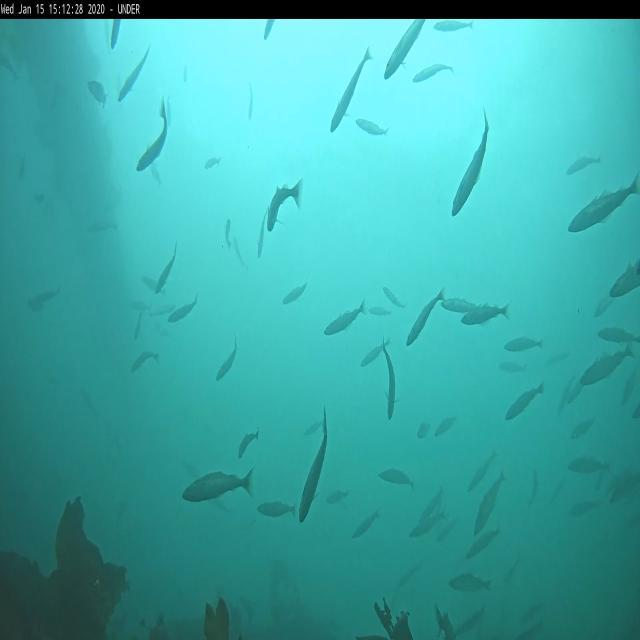fish: (567, 172, 640, 235), (452, 109, 490, 217), (329, 47, 372, 136), (298, 410, 328, 522), (181, 467, 253, 504), (472, 469, 508, 539), (579, 342, 636, 386), (384, 20, 426, 78), (406, 286, 446, 346), (136, 99, 167, 172), (267, 176, 304, 233), (117, 44, 152, 102), (504, 379, 546, 424), (324, 300, 366, 336), (467, 448, 498, 492), (381, 338, 397, 422), (610, 258, 640, 300), (461, 302, 510, 327), (154, 242, 177, 294), (410, 508, 447, 540), (466, 526, 502, 558), (568, 454, 614, 478), (447, 571, 492, 595), (420, 483, 446, 522), (378, 466, 414, 492), (412, 64, 454, 86), (598, 325, 639, 347), (218, 337, 238, 382), (360, 335, 390, 365), (166, 296, 196, 325), (566, 154, 604, 176), (354, 116, 390, 139), (441, 296, 482, 316), (352, 510, 378, 540), (85, 76, 108, 109), (238, 428, 260, 460), (503, 336, 544, 352), (258, 501, 295, 518), (256, 212, 269, 260), (130, 350, 158, 372), (282, 282, 308, 305), (568, 418, 596, 438), (383, 284, 403, 310), (434, 415, 456, 438), (432, 20, 474, 32), (141, 276, 166, 296), (498, 358, 528, 373), (326, 490, 348, 506), (368, 305, 394, 318), (110, 20, 121, 50), (530, 467, 538, 507), (416, 422, 432, 440), (262, 20, 276, 40), (224, 218, 232, 250), (204, 154, 221, 168), (248, 82, 252, 119)
